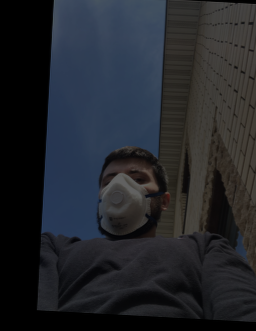with_mask: (95, 165, 157, 240)
